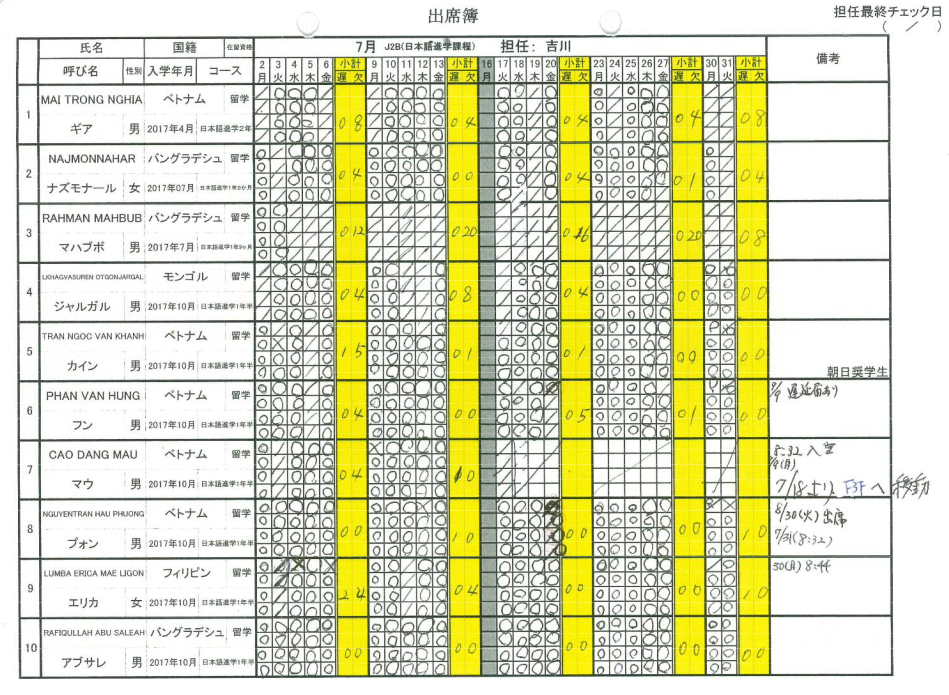/: (527, 245, 544, 262), (253, 113, 270, 129), (253, 84, 269, 100), (317, 84, 333, 100), (317, 98, 333, 114), (366, 83, 382, 99), (318, 202, 334, 218), (269, 158, 286, 173), (525, 83, 542, 98), (415, 321, 432, 336), (269, 143, 285, 158), (366, 99, 382, 114), (366, 114, 382, 129), (526, 98, 542, 113), (526, 113, 542, 128), (511, 187, 527, 202), (287, 202, 302, 218), (302, 202, 318, 217), (511, 231, 527, 246), (544, 245, 559, 261), (286, 247, 302, 262), (303, 365, 319, 380), (272, 587, 287, 603), (591, 202, 607, 217), (271, 602, 288, 616), (527, 173, 542, 188), (430, 216, 445, 231), (511, 246, 526, 261), (495, 246, 510, 261), (368, 247, 383, 262), (318, 247, 333, 262), (255, 277, 270, 292), (399, 261, 414, 276), (304, 380, 319, 395), (271, 454, 286, 469), (400, 557, 415, 572), (592, 216, 607, 231), (623, 230, 638, 245), (606, 112, 621, 127), (702, 83, 717, 98), (253, 100, 269, 114), (318, 129, 334, 143), (270, 188, 286, 202), (527, 158, 543, 172), (366, 202, 382, 216), (398, 202, 414, 216), (495, 202, 511, 216), (398, 217, 414, 231), (303, 232, 319, 246), (303, 248, 319, 262), (495, 261, 511, 275), (303, 410, 319, 424), (271, 483, 287, 497), (607, 216, 623, 230), (607, 231, 623, 245), (607, 246, 623, 260), (639, 217, 655, 231), (639, 246, 655, 260), (719, 246, 735, 260), (702, 98, 718, 112), (365, 129, 382, 142), (318, 113, 333, 127), (270, 173, 285, 187), (527, 128, 542, 142), (527, 143, 542, 157), (528, 188, 543, 202), (383, 202, 398, 216), (415, 202, 430, 216), (528, 202, 543, 216), (543, 202, 558, 216), (383, 217, 398, 231), (415, 217, 430, 231), (512, 216, 527, 230), (527, 217, 542, 231), (543, 217, 558, 231), (528, 232, 543, 246), (415, 247, 430, 261), (399, 246, 414, 260), (383, 247, 398, 261), (256, 262, 270, 277), (255, 292, 270, 306), (255, 306, 270, 320), (415, 261, 430, 275), (399, 276, 414, 290), (415, 276, 430, 290), (400, 291, 415, 305), (415, 291, 430, 305), (495, 290, 510, 304), (271, 321, 286, 335), (303, 322, 318, 336), (303, 336, 318, 350), (303, 351, 318, 365), (496, 320, 511, 334), (512, 380, 527, 394), (544, 424, 559, 438), (271, 440, 286, 454), (496, 439, 511, 453), (497, 469, 512, 483), (400, 573, 415, 587), (401, 602, 416, 616), (623, 246, 638, 260), (704, 245, 719, 259), (655, 186, 669, 201), (719, 142, 733, 157), (719, 157, 734, 171), (719, 171, 734, 185), (606, 97, 621, 111), (703, 112, 718, 126), (719, 82, 733, 97), (511, 202, 527, 215), (286, 218, 302, 231), (303, 218, 319, 231), (366, 218, 382, 231), (495, 217, 511, 230), (286, 233, 302, 246), (415, 232, 431, 245), (303, 425, 319, 438), (497, 455, 513, 468), (496, 483, 512, 496), (639, 202, 655, 215), (639, 232, 655, 245), (703, 127, 719, 140), (431, 202, 445, 216), (431, 247, 445, 261), (496, 275, 510, 289), (402, 587, 416, 601), (593, 246, 607, 260), (609, 202, 623, 216), (624, 216, 638, 230), (704, 201, 718, 215), (607, 83, 621, 97), (253, 129, 268, 142), (383, 232, 398, 245), (399, 232, 414, 245), (431, 232, 446, 245), (495, 232, 510, 245), (415, 306, 430, 319), (496, 306, 511, 319), (304, 396, 319, 409), (657, 379, 670, 394), (623, 202, 638, 215), (719, 187, 734, 200), (720, 126, 733, 141), (319, 218, 333, 231), (319, 231, 332, 245), (368, 232, 382, 245), (543, 232, 557, 245), (544, 394, 557, 408), (544, 409, 557, 423), (272, 470, 286, 483), (592, 232, 606, 245), (656, 202, 670, 215), (719, 201, 733, 214), (705, 216, 719, 229), (704, 231, 718, 244), (720, 231, 734, 244), (719, 98, 732, 112), (606, 128, 621, 140), (656, 216, 669, 229), (720, 216, 733, 229), (400, 307, 414, 319), (706, 558, 720, 570), (656, 247, 670, 259), (720, 112, 732, 125), (657, 232, 669, 244)
x: (288, 558, 304, 572), (722, 497, 736, 512), (416, 498, 431, 512), (321, 558, 336, 572), (271, 336, 286, 350)
